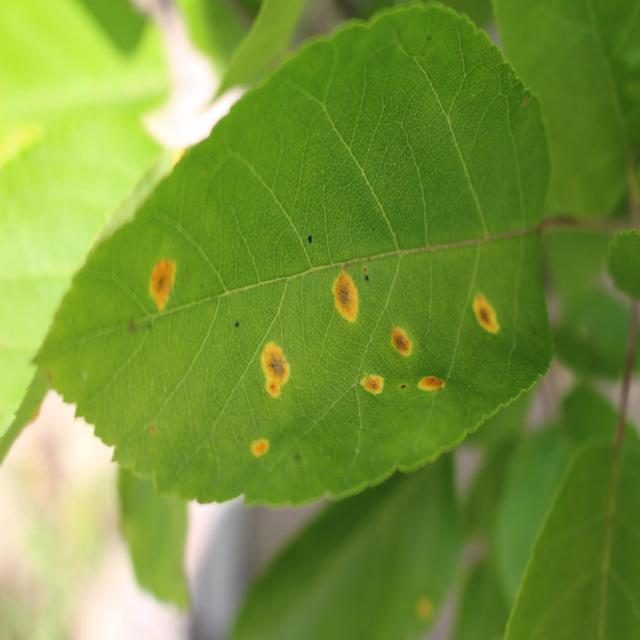Rust: (247, 325, 297, 414), (319, 247, 364, 335), (141, 245, 185, 318), (467, 280, 504, 341), (401, 586, 444, 634), (358, 362, 391, 419), (383, 320, 421, 364), (414, 369, 454, 400), (243, 432, 273, 470)
